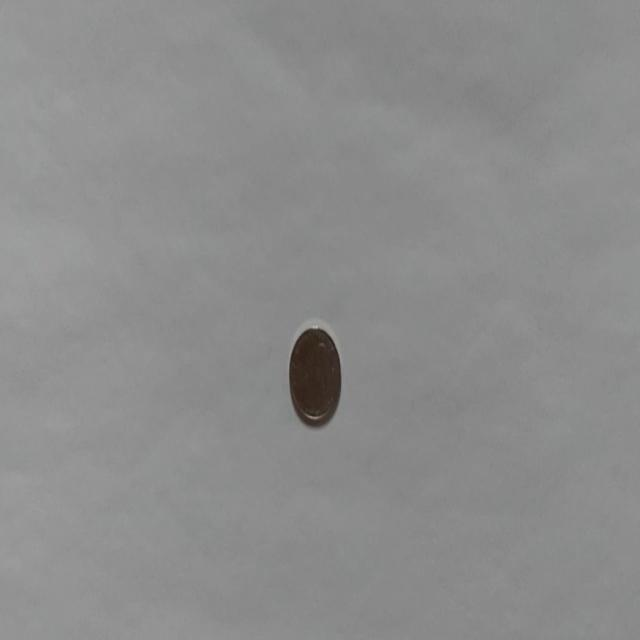seribu rupiah koin: (287, 318, 342, 428)
